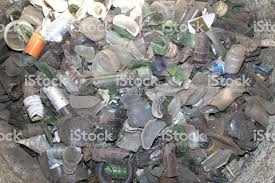glass: (42, 79, 99, 145)
paper: (200, 81, 240, 114), (87, 47, 126, 77), (137, 116, 166, 150), (113, 11, 141, 37), (148, 92, 169, 119)
plastic: (219, 40, 259, 78), (22, 31, 51, 59), (101, 158, 132, 180)
